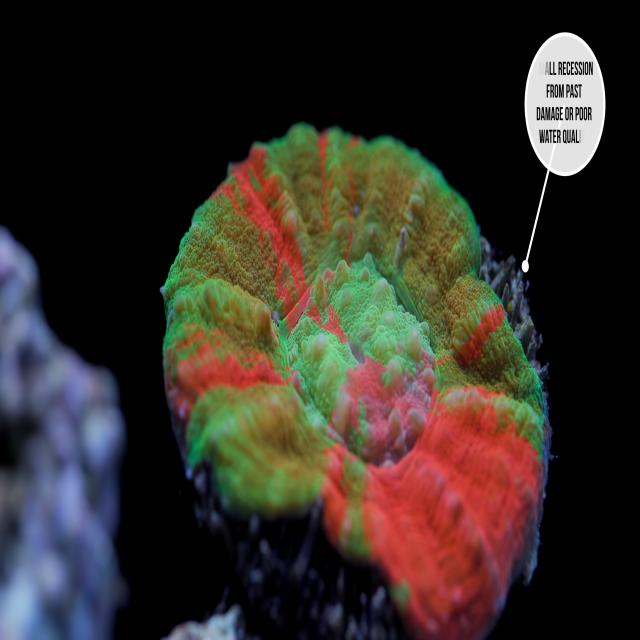Scolymia-Vitiensis -Poisonous-: (164, 126, 549, 637)
